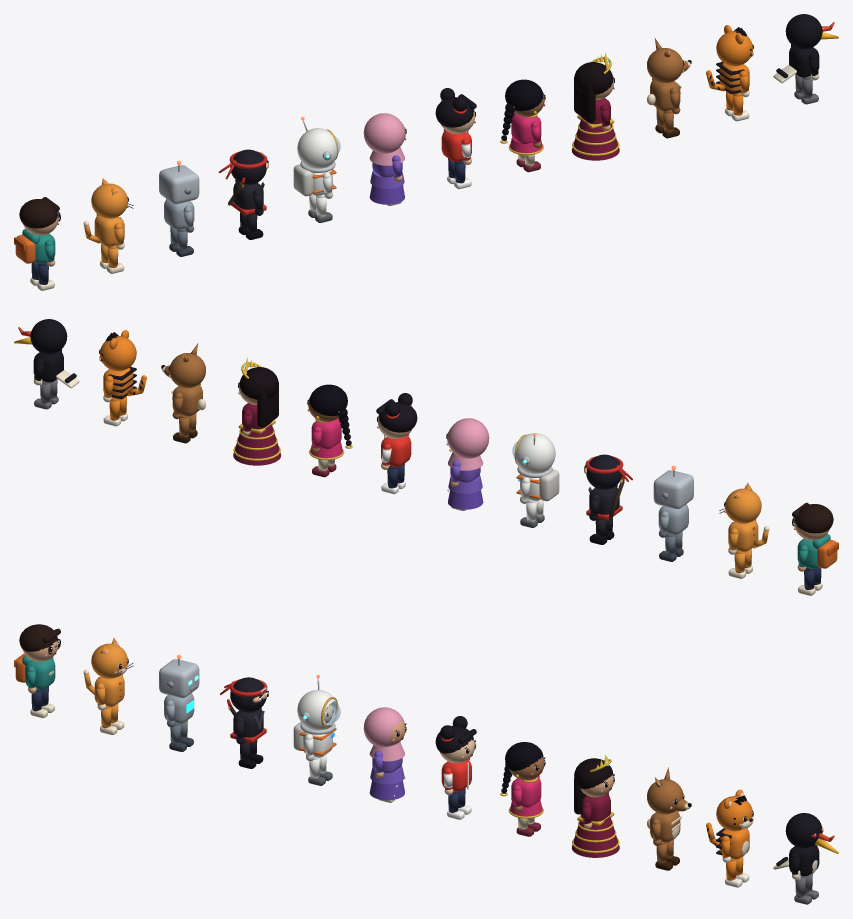
Rendered from characters.glb.
3 renders of one model, top to bottom at view 1: azimuth 30°, elevation 25°; view 2: azimuth 150°, elevation 25°; view 3: azimuth 330°, elevation 25°, orthographic.
Parts seen in each view (by area): view 1: Tudung, HeadMesh.002, Helmet, Gown, HeadMesh.011, HeadMesh.001, HeadMesh.009, Hair.003, Hair.002, HeadMesh.010, Hair, HeadMesh.003 (+11 smaller); view 2: Tudung, HeadMesh.002, Helmet, Gown, HeadMesh.011, HeadMesh.001, HeadMesh.009, Hair.003, Hair.002, HeadMesh.010, Hair, HeadMesh.003 (+11 smaller); view 3: HeadMesh.002, Gown, Tudung, Helmet, HeadMesh.011, HeadMesh.001, HeadMesh.009, HeadMesh.010, HeadMesh.003, Hair.003, Hair.002, Hair (+12 smaller).
Boxes of the visible parts, x1=… form: Tudung: x1=363, y1=113, x2=404, y2=153; HeadMesh.002: x1=159, y1=165, x2=199, y2=204; Helmet: x1=297, y1=128, x2=337, y2=168; Gown: x1=572, y1=119, x2=619, y2=160; HeadMesh.011: x1=785, y1=14, x2=822, y2=49; HeadMesh.001: x1=91, y1=183, x2=127, y2=218; HeadMesh.009: x1=647, y1=48, x2=683, y2=82; Hair.003: x1=574, y1=62, x2=613, y2=94; Hair.002: x1=505, y1=79, x2=543, y2=111; HeadMesh.010: x1=716, y1=31, x2=752, y2=66; Hair: x1=19, y1=199, x2=57, y2=228; HeadMesh.003: x1=230, y1=149, x2=266, y2=184; Tudung: x1=448, y1=418, x2=489, y2=458; HeadMesh.002: x1=653, y1=470, x2=693, y2=509; Helmet: x1=515, y1=433, x2=555, y2=473; Gown: x1=233, y1=424, x2=280, y2=465; HeadMesh.011: x1=30, y1=319, x2=67, y2=354; HeadMesh.001: x1=725, y1=488, x2=761, y2=523; HeadMesh.009: x1=169, y1=353, x2=205, y2=387; Hair.003: x1=239, y1=367, x2=278, y2=399; Hair.002: x1=309, y1=384, x2=347, y2=416; HeadMesh.010: x1=100, y1=336, x2=136, y2=371; Hair: x1=795, y1=504, x2=833, y2=533; HeadMesh.003: x1=586, y1=454, x2=622, y2=489; HeadMesh.002: x1=159, y1=659, x2=199, y2=697; Gown: x1=571, y1=816, x2=619, y2=857; Tudung: x1=363, y1=707, x2=403, y2=747; Helmet: x1=297, y1=689, x2=337, y2=730; HeadMesh.011: x1=785, y1=813, x2=822, y2=848; HeadMesh.001: x1=91, y1=643, x2=127, y2=678; HeadMesh.009: x1=647, y1=779, x2=683, y2=814; HeadMesh.010: x1=716, y1=796, x2=752, y2=831; HeadMesh.003: x1=230, y1=677, x2=266, y2=712; Hair.003: x1=574, y1=758, x2=613, y2=789; Hair.002: x1=505, y1=742, x2=543, y2=770; Hair: x1=19, y1=624, x2=57, y2=651.
Bounding box in the file's own units: 16.53 × 1.9 × 0.862.
